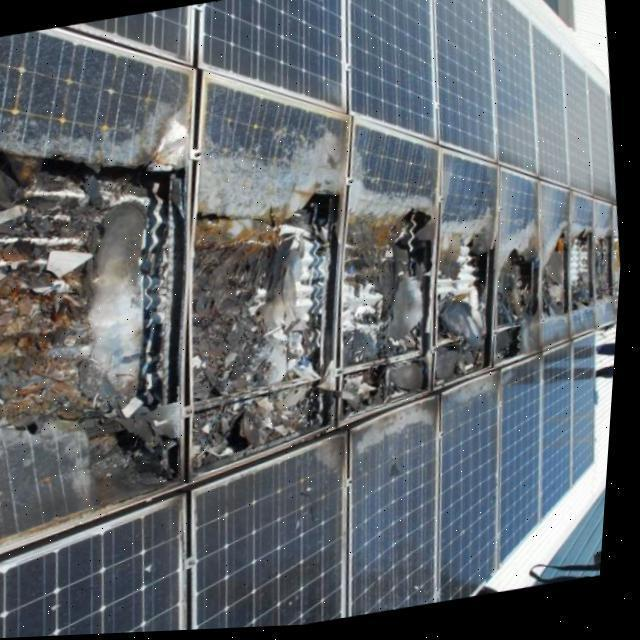Anomaly Solar Panel: (0, 7, 223, 548), (192, 75, 350, 481), (347, 121, 439, 426), (439, 153, 502, 389), (497, 172, 544, 370), (545, 186, 573, 353), (576, 194, 597, 342)
Normal Solar Panel: (436, 0, 496, 168), (489, 0, 539, 184), (533, 21, 572, 194)
Structural Damage: (192, 135, 346, 479), (345, 141, 434, 426), (440, 215, 498, 389), (492, 226, 547, 370), (543, 225, 575, 353), (574, 227, 596, 340)
